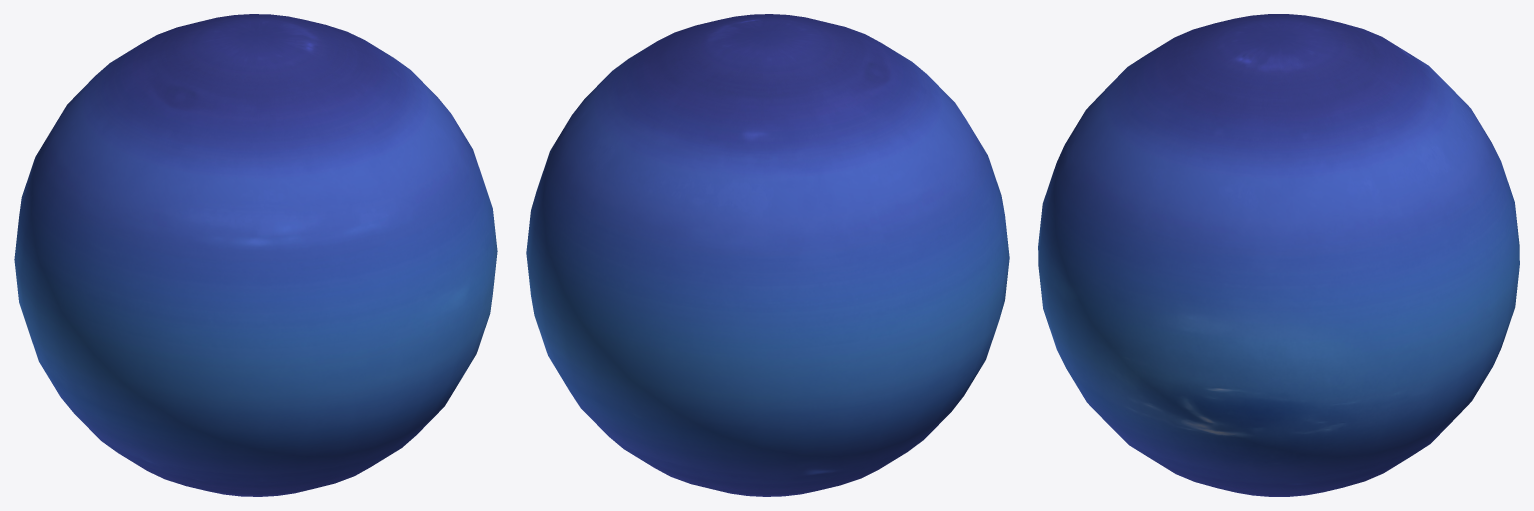
File: Neptune.glb
The picture shows the model from 3 angles, left to right: view 1: azimuth 30°, elevation 25°; view 2: azimuth 150°, elevation 25°; view 3: azimuth 270°, elevation 25°; orthographic projection.
Parts seen in each view (by area): view 1: Neptune; view 2: Neptune; view 3: Neptune.
Part boxes in pixels (x1=…): Neptune: x1=14, y1=14, x2=497, y2=496; Neptune: x1=526, y1=14, x2=1009, y2=496; Neptune: x1=1038, y1=14, x2=1519, y2=496.
Bounding box in the file's own units: 3.49 × 3.5 × 3.49.
1 material, 1 textured.
